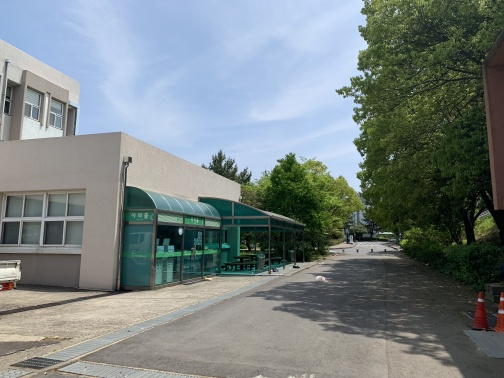Ara Hall: (5, 150, 305, 285)
